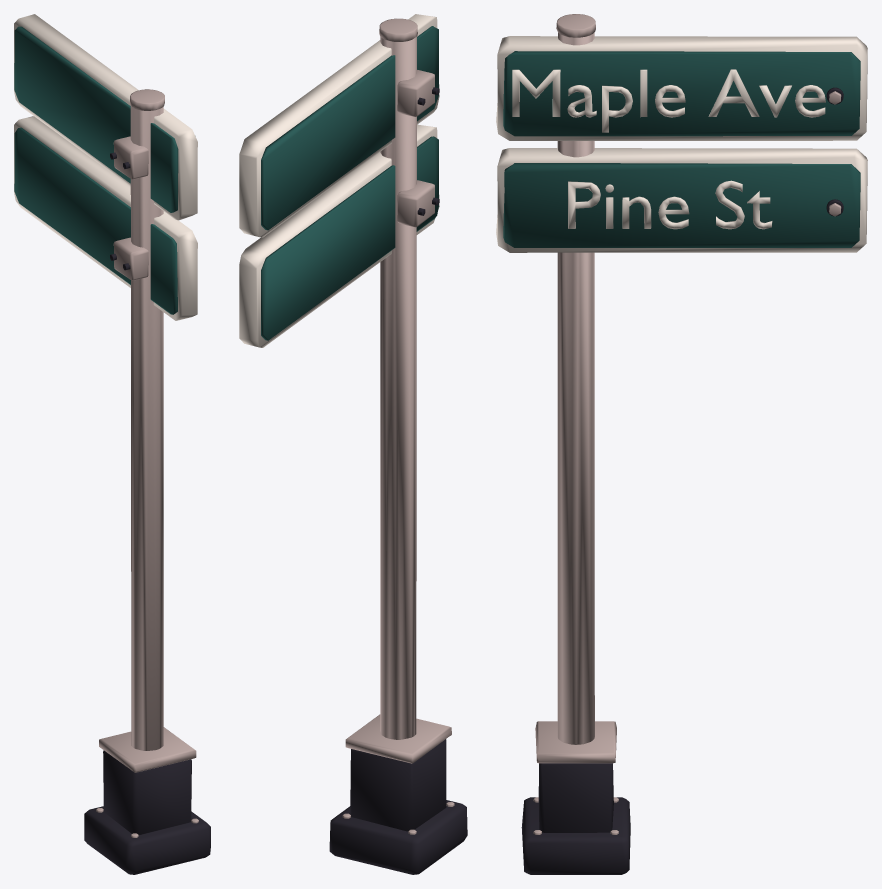
File: prop.street-sign.lod1.glb
3 views of the same model, side by side, from view 1: azimuth 30°, elevation 25°; view 2: azimuth 150°, elevation 25°; view 3: azimuth 270°, elevation 25° (orthographic). The views are drawn at different scales.
Visible parts, largest first — view 1: object 2, body; view 2: object 2, body; view 3: object 2, body.
Boxes of the visible parts, <box> form: object 2: <box>14,14,210,874</box>; body: <box>96,89,198,837</box>; object 2: <box>239,14,467,874</box>; body: <box>342,18,454,834</box>; object 2: <box>496,36,867,874</box>; body: <box>533,14,841,834</box>.
Bounding box in the file's own units: 0.34 × 2.87 × 1.16.
